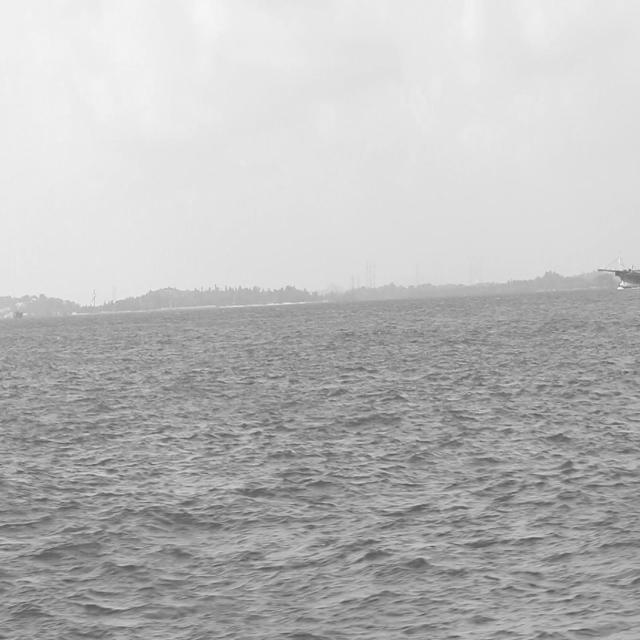ship: (594, 260, 639, 294)
